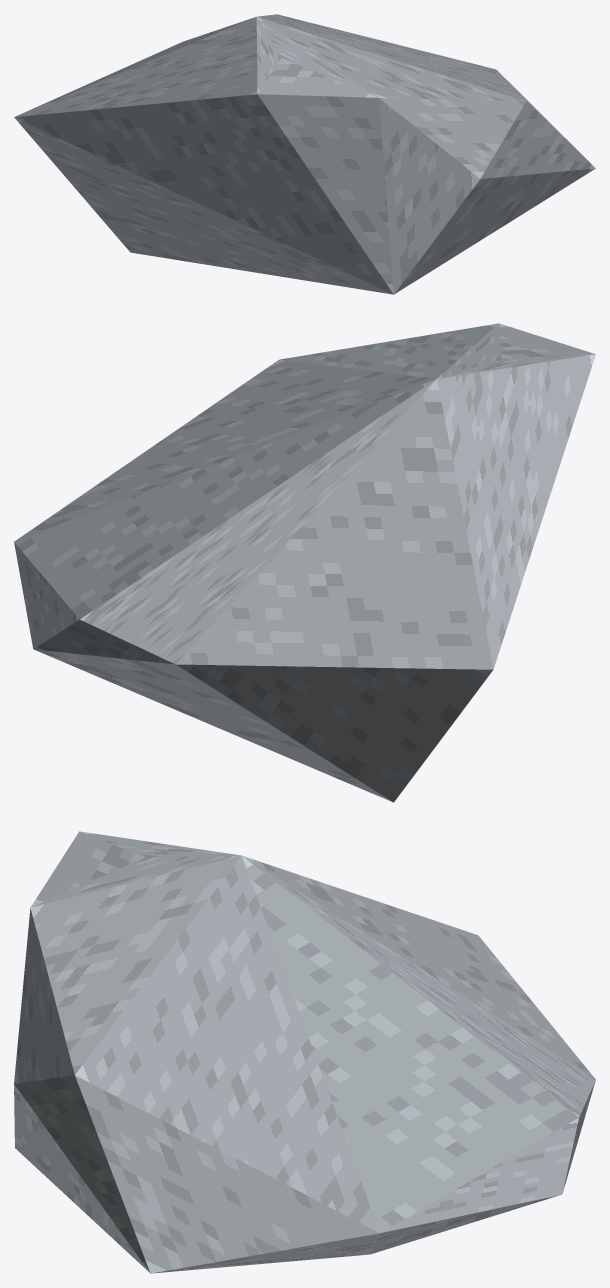
The model's file is ch_steel_lump.glb.
3 renders of one model, top to bottom at view 1: azimuth 30°, elevation 25°; view 2: azimuth 150°, elevation 25°; view 3: azimuth 270°, elevation 25°, orthographic. The views are drawn at different scales.
Parts seen in each view (by area): view 1: block_irregular metal; view 2: block_irregular metal; view 3: block_irregular metal.
Part boxes in pixels (x1,y1,x2,y2): block_irregular metal: (14, 14, 595, 294); block_irregular metal: (14, 323, 595, 802); block_irregular metal: (14, 831, 595, 1273).
Bounding box in the file's own units: 0.0905 × 0.055 × 0.0843.
1 material, 1 textured.
